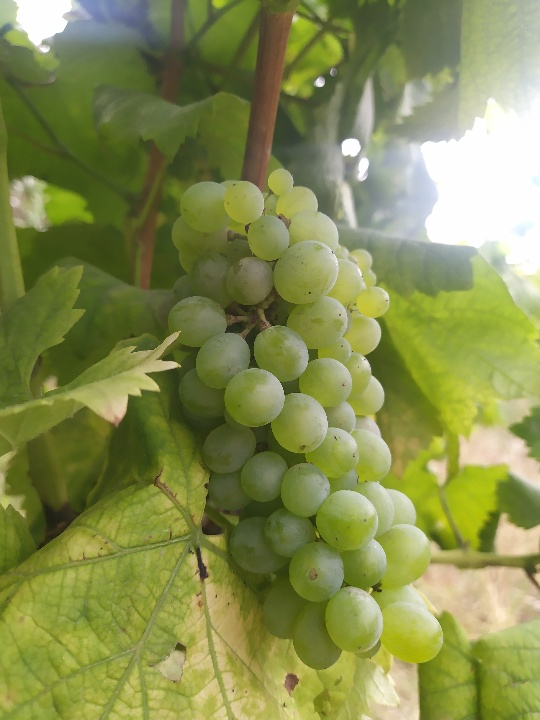grape: (167, 165, 448, 671)
